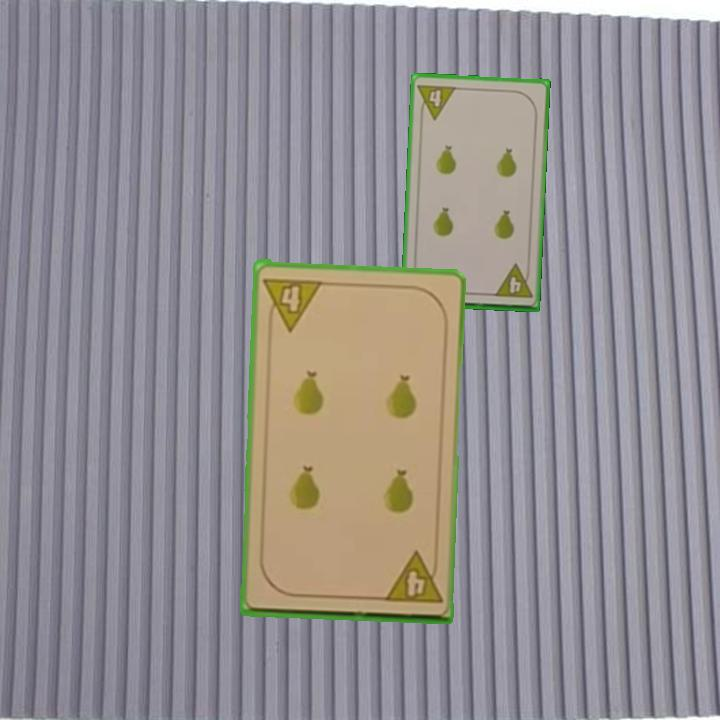4p: (260, 273, 325, 332), (380, 548, 445, 607), (414, 80, 459, 122), (490, 261, 535, 301)
